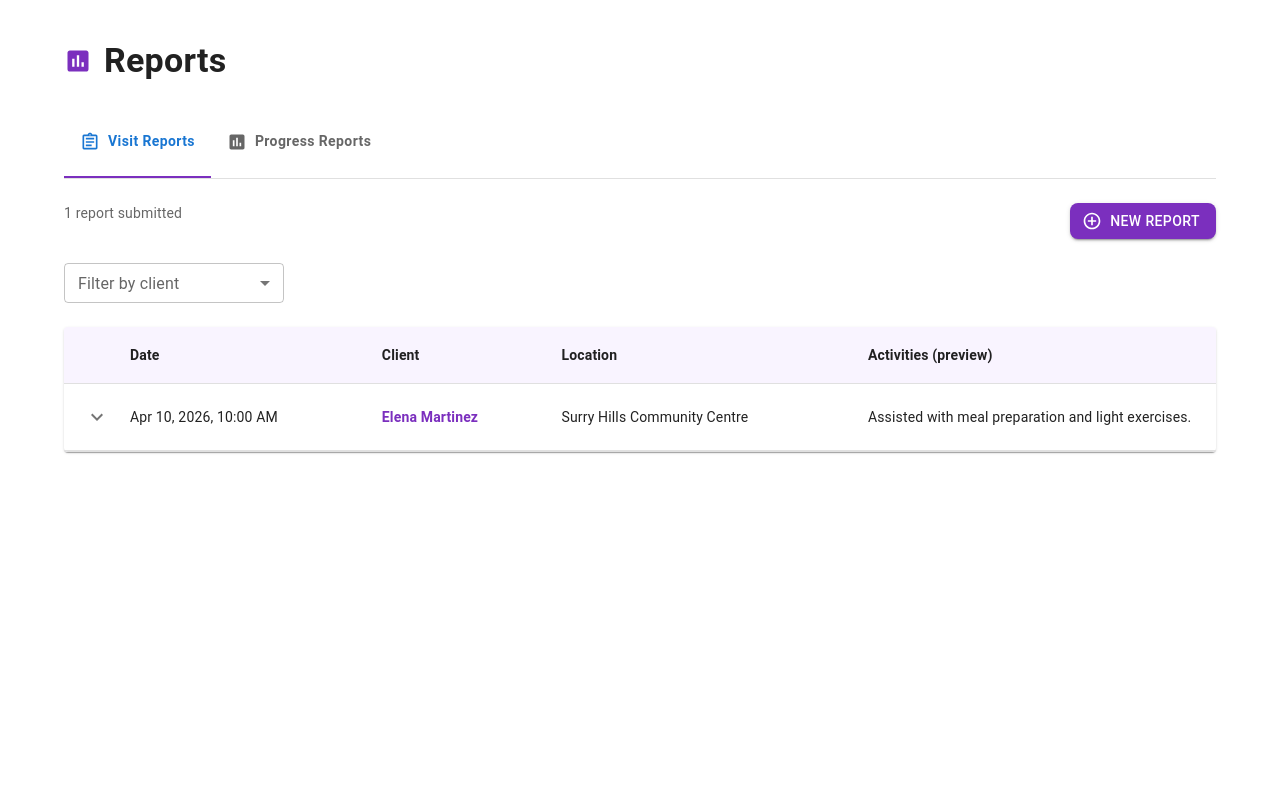
Test: ReportsPage › collapses row again on second click
Expected: the text "Elena Martinez" is shown, [366,384,545,451]
Click the 2nd button at (97, 418), box [80,400,114,434]
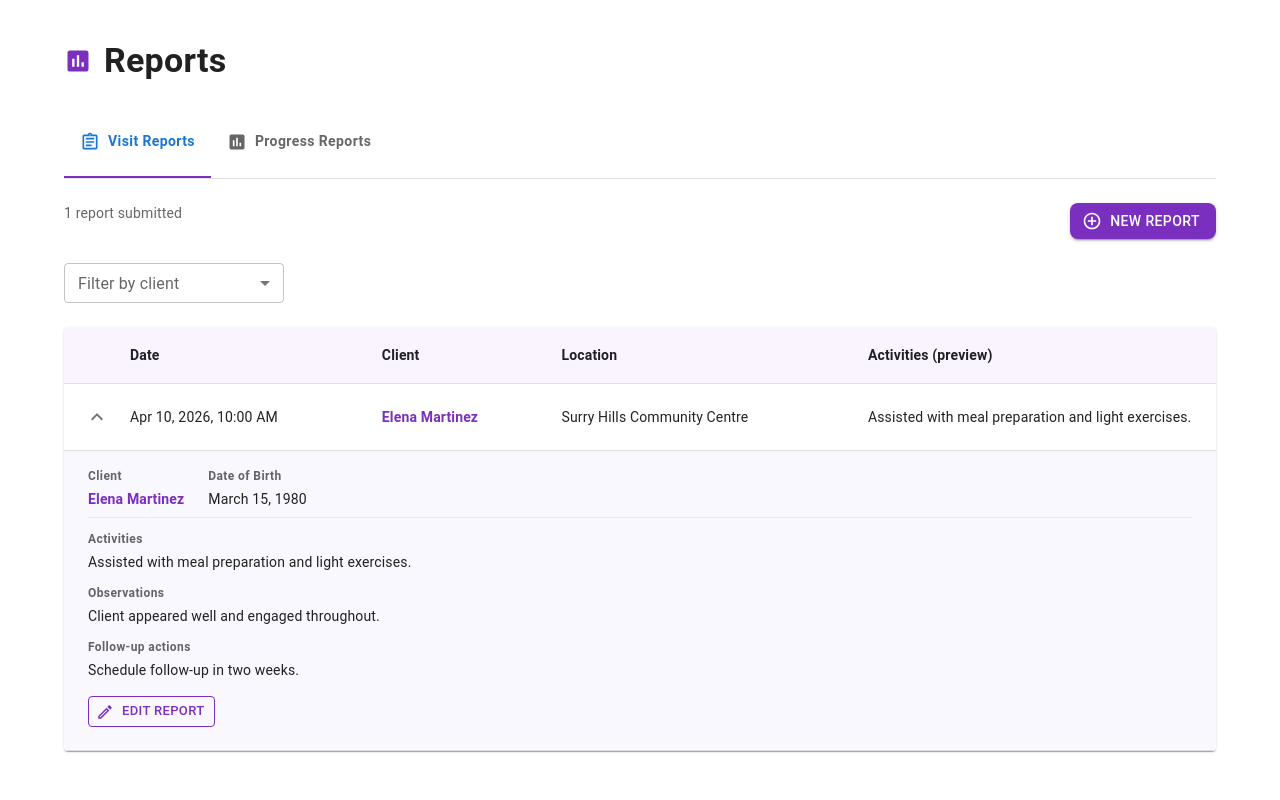
Click the 2nd button at (97, 418), box [80,400,114,434]
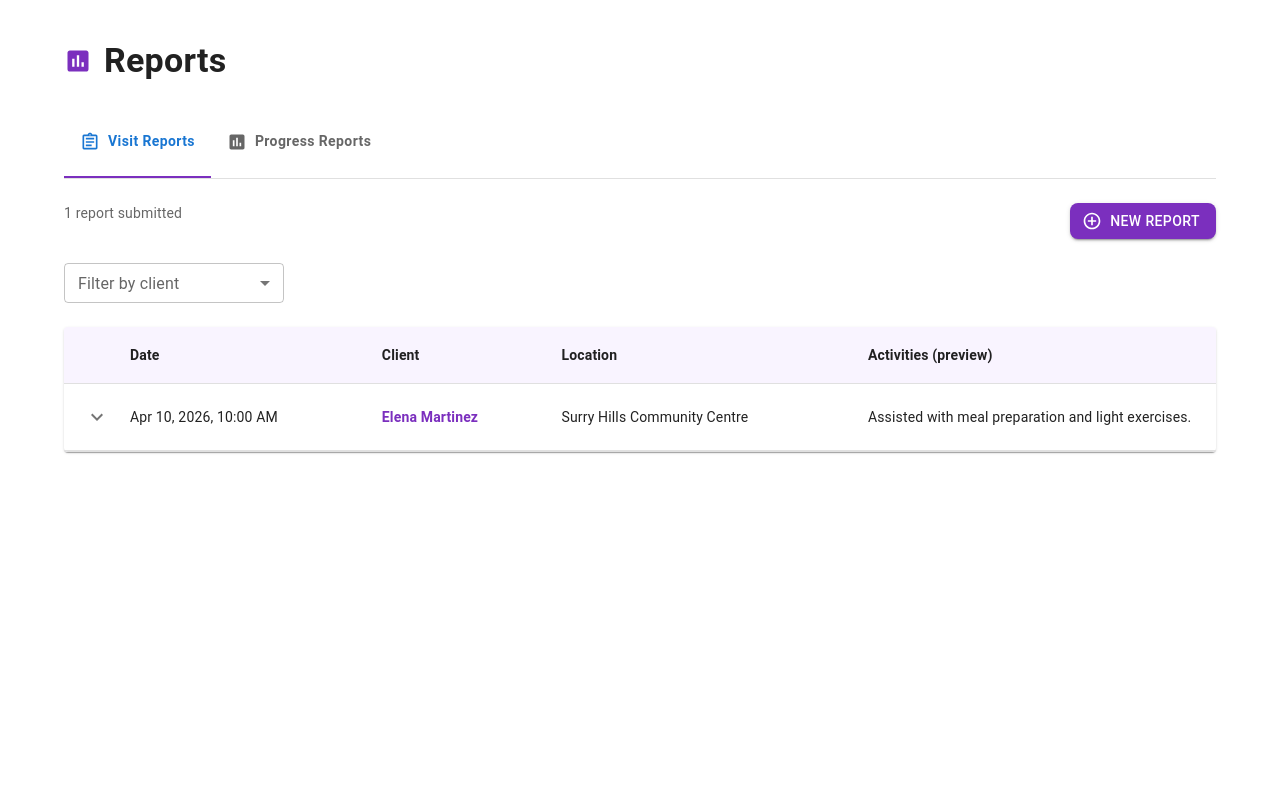
Now the text "Observations" is gone
